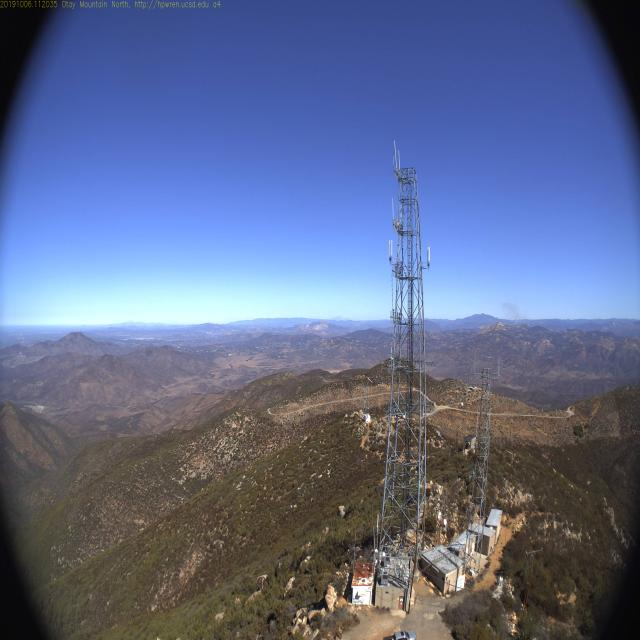smoke: (499, 296, 523, 323)
